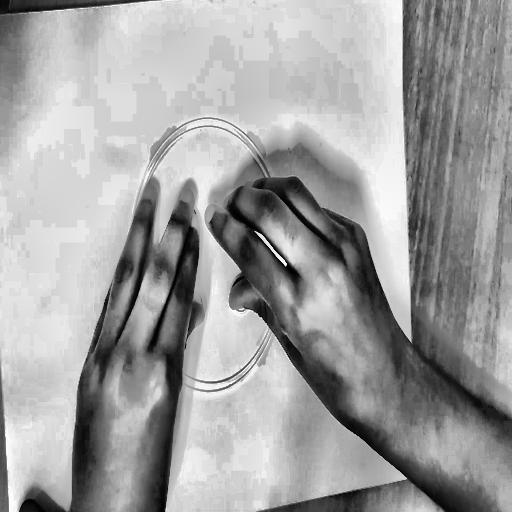bottom_right: (415, 465, 422, 478)
button: (116, 98, 301, 419)
